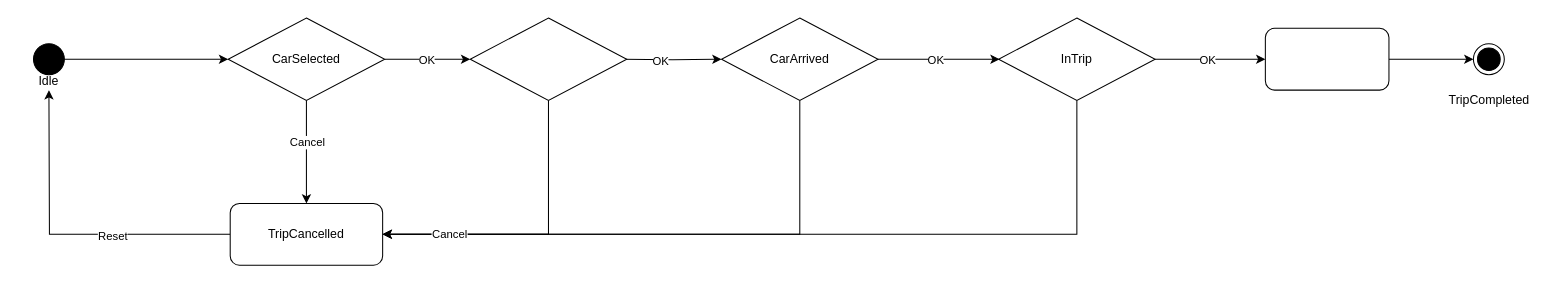
The diagram is 1559 pixels wide and 283 high, and some of its shapes have lost their labels. Here are the shapes that lost their labels. From the top down, the box of each, then its label:
(469, 17, 627, 100): OrderConfirmed
(1264, 27, 1389, 90): Pay
